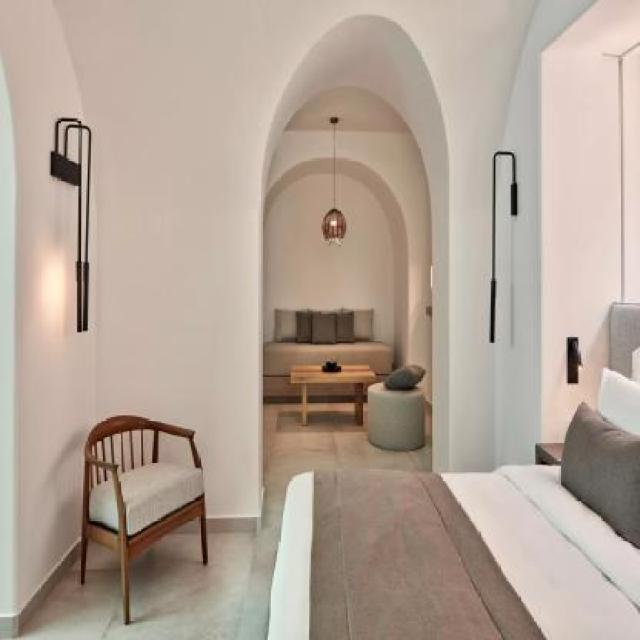floor: (17, 395, 546, 639)
